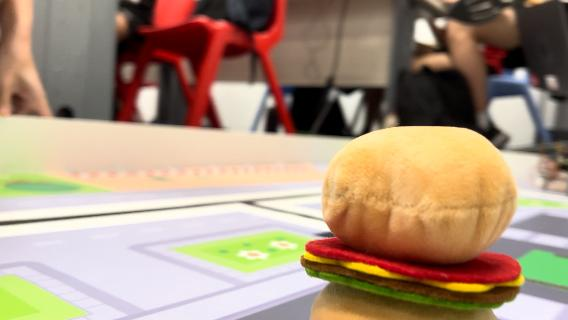burger: (297, 120, 528, 310)
